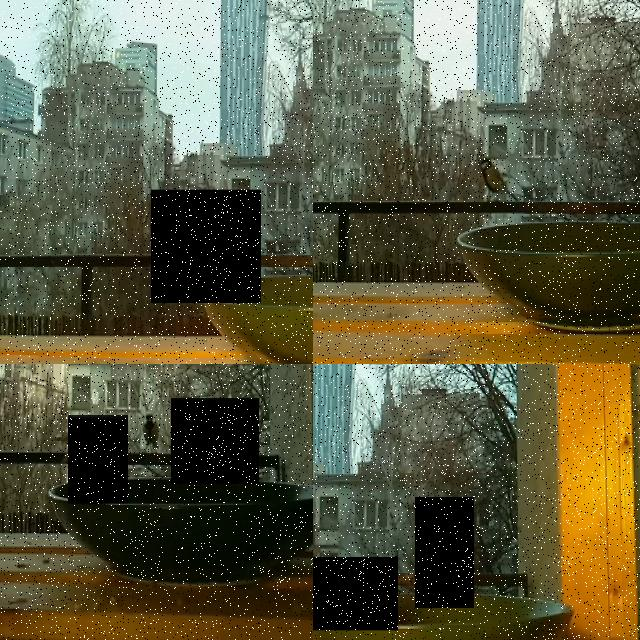Bogatka: (415, 497, 474, 608), (313, 556, 398, 630)
Wrobel: (151, 190, 261, 303), (171, 398, 259, 484), (68, 416, 128, 504)
